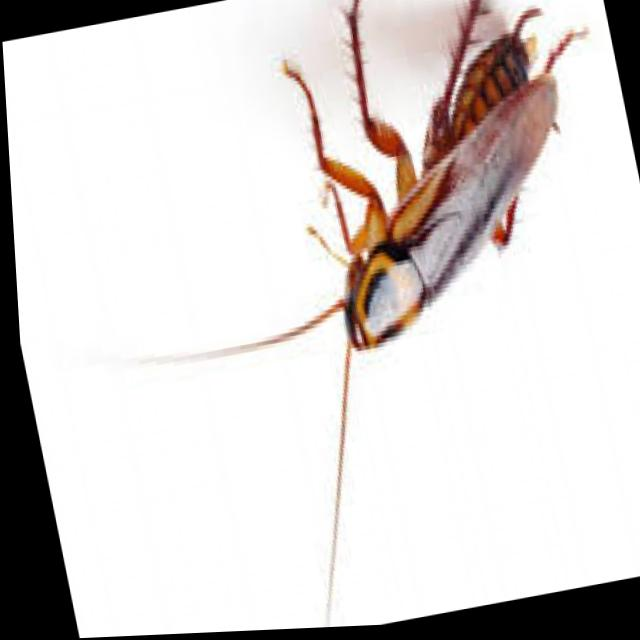Cockroach: (62, 0, 640, 638)
